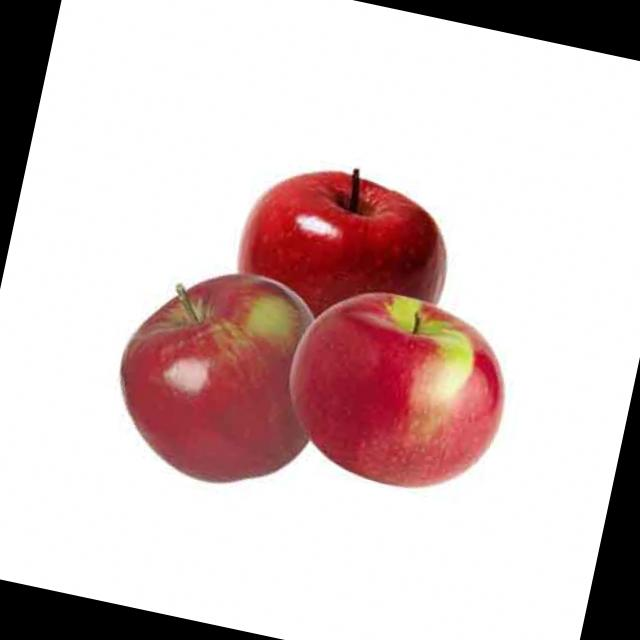apple: (205, 144, 474, 403), (84, 248, 340, 514), (260, 274, 522, 518)
